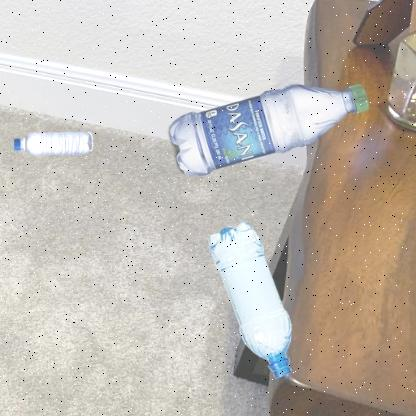Plastic Bottle: (170, 84, 370, 176), (210, 223, 292, 379), (13, 132, 93, 156)
